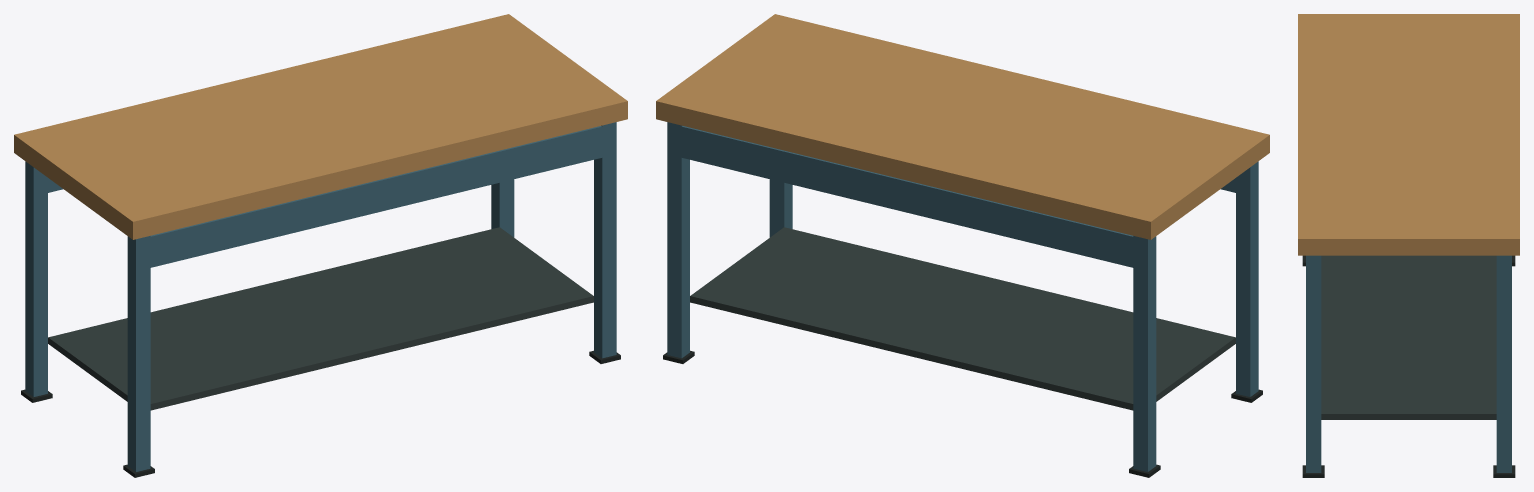
File: workbench.glb
3 views of the same model, side by side, from view 1: azimuth 30°, elevation 25°; view 2: azimuth 150°, elevation 25°; view 3: azimuth 270°, elevation 25° (orthographic). The views are drawn at different scales.
Parts seen in each view (by area): view 1: Tabletop, LowerShelf, Apron1, LegLeftFront, LegLeftBack, LegRightFront, LegRightBack; view 2: Tabletop, LowerShelf, Apron-1, LegLeftBack, LegLeftFront, LegRightBack, LegRightFront; view 3: Tabletop, LowerShelf, LegRightBack, LegRightFront.
Part boxes in pixels (x1=…): Tabletop: x1=14, y1=14, x2=627, y2=239; LowerShelf: x1=48, y1=227, x2=593, y2=410; Apron1: x1=143, y1=126, x2=602, y2=269; LegLeftFront: x1=127, y1=236, x2=150, y2=471; LegLeftBack: x1=25, y1=161, x2=47, y2=396; LegRightFront: x1=594, y1=122, x2=616, y2=358; LegRightBack: x1=491, y1=179, x2=514, y2=237; Tabletop: x1=656, y1=14, x2=1269, y2=239; LowerShelf: x1=690, y1=227, x2=1235, y2=410; Apron-1: x1=674, y1=125, x2=1140, y2=268; LegLeftBack: x1=1133, y1=236, x2=1156, y2=471; LegLeftFront: x1=1236, y1=161, x2=1258, y2=396; LegRightBack: x1=667, y1=122, x2=689, y2=358; LegRightFront: x1=769, y1=179, x2=792, y2=237; Tabletop: x1=1298, y1=14, x2=1519, y2=255; LowerShelf: x1=1321, y1=255, x2=1496, y2=419; LegRightBack: x1=1496, y1=255, x2=1511, y2=472; LegRightFront: x1=1306, y1=255, x2=1321, y2=472.
Size of the model in its own units: 1.8 by 0.9 by 0.75.
